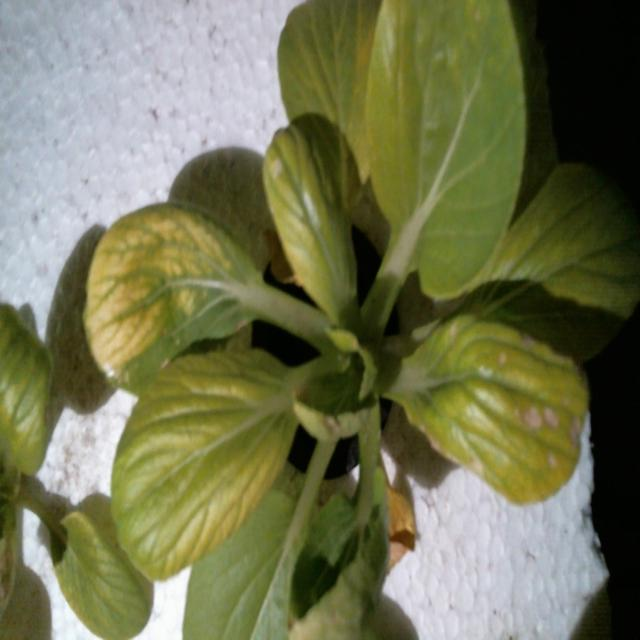pakcoy_tidak_sehat: (69, 7, 635, 636)
